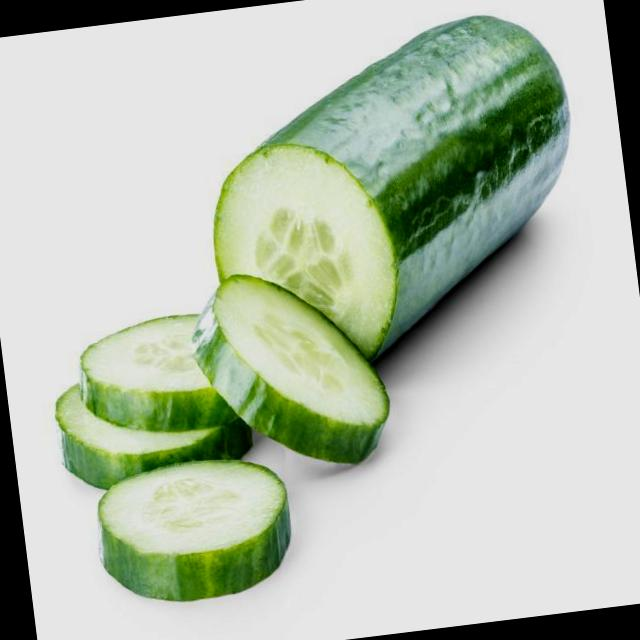Cucumber: (179, 7, 591, 384)
